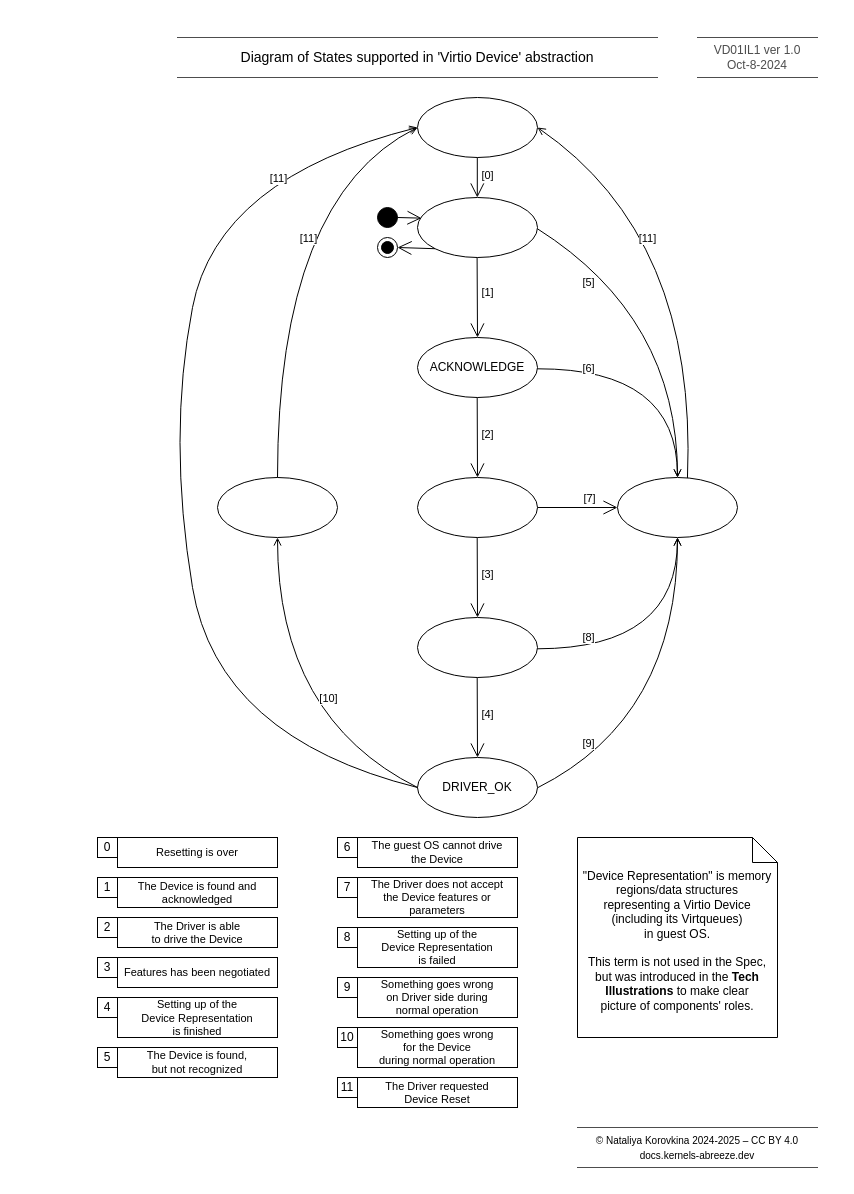
This 854x1194 diagram has some shape labels left out. The centre of each missing label's shape, as x and y in pixels:
DEVICE_NEEDS_ RESET: the point at 277,507
DRIVER: the point at 477,507
FAILED: the point at 677,507
FEATURES_OK: the point at 477,647
INIT: the point at 477,227
RESET_ UNDERWAY: the point at 477,127
